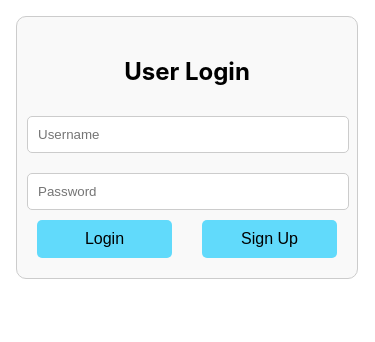
Login Component › shows error if login fails due to invalid credentials
The width and height of the screenshot is (375, 342).
Type "testuser" into the field with placeholder "Username".
click(188, 134); type("testuser")  # box x1=27 y1=116 x2=349 y2=153
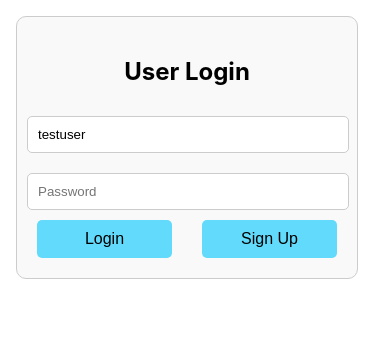
Type "wrongpassword" into the password field with placeholder "Password".
click(188, 191); type("wrongpassword")  # box x1=27 y1=173 x2=349 y2=210
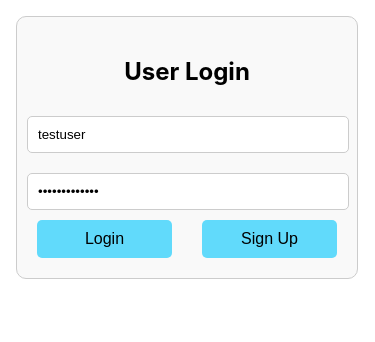
Click the button "Login".
click(104, 239)  # box x1=37 y1=220 x2=172 y2=258
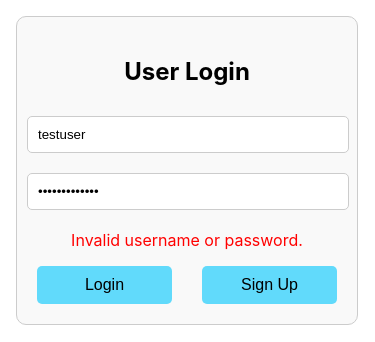
Now the text "Invalid username or password." is shown, box x1=71 y1=230 x2=303 y2=250
